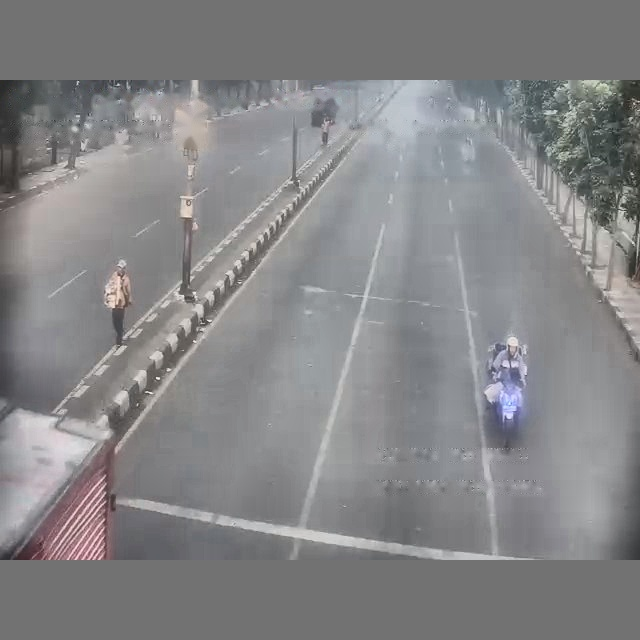Motor: (485, 343, 527, 448)
